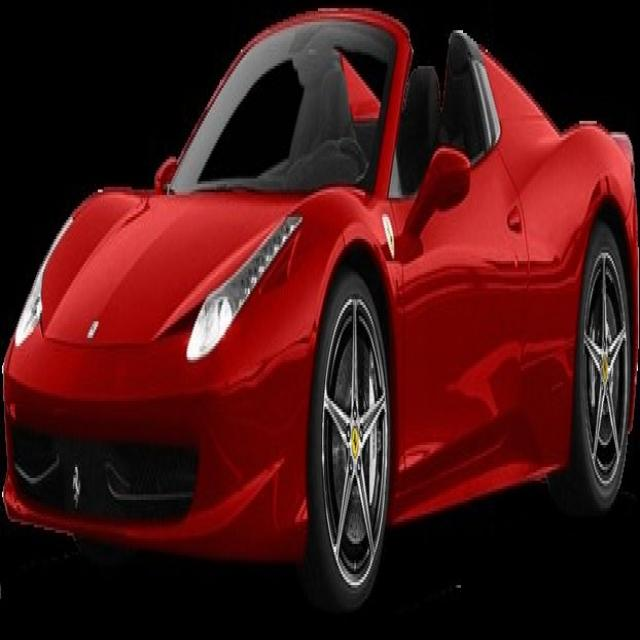red: (8, 14, 640, 579)
